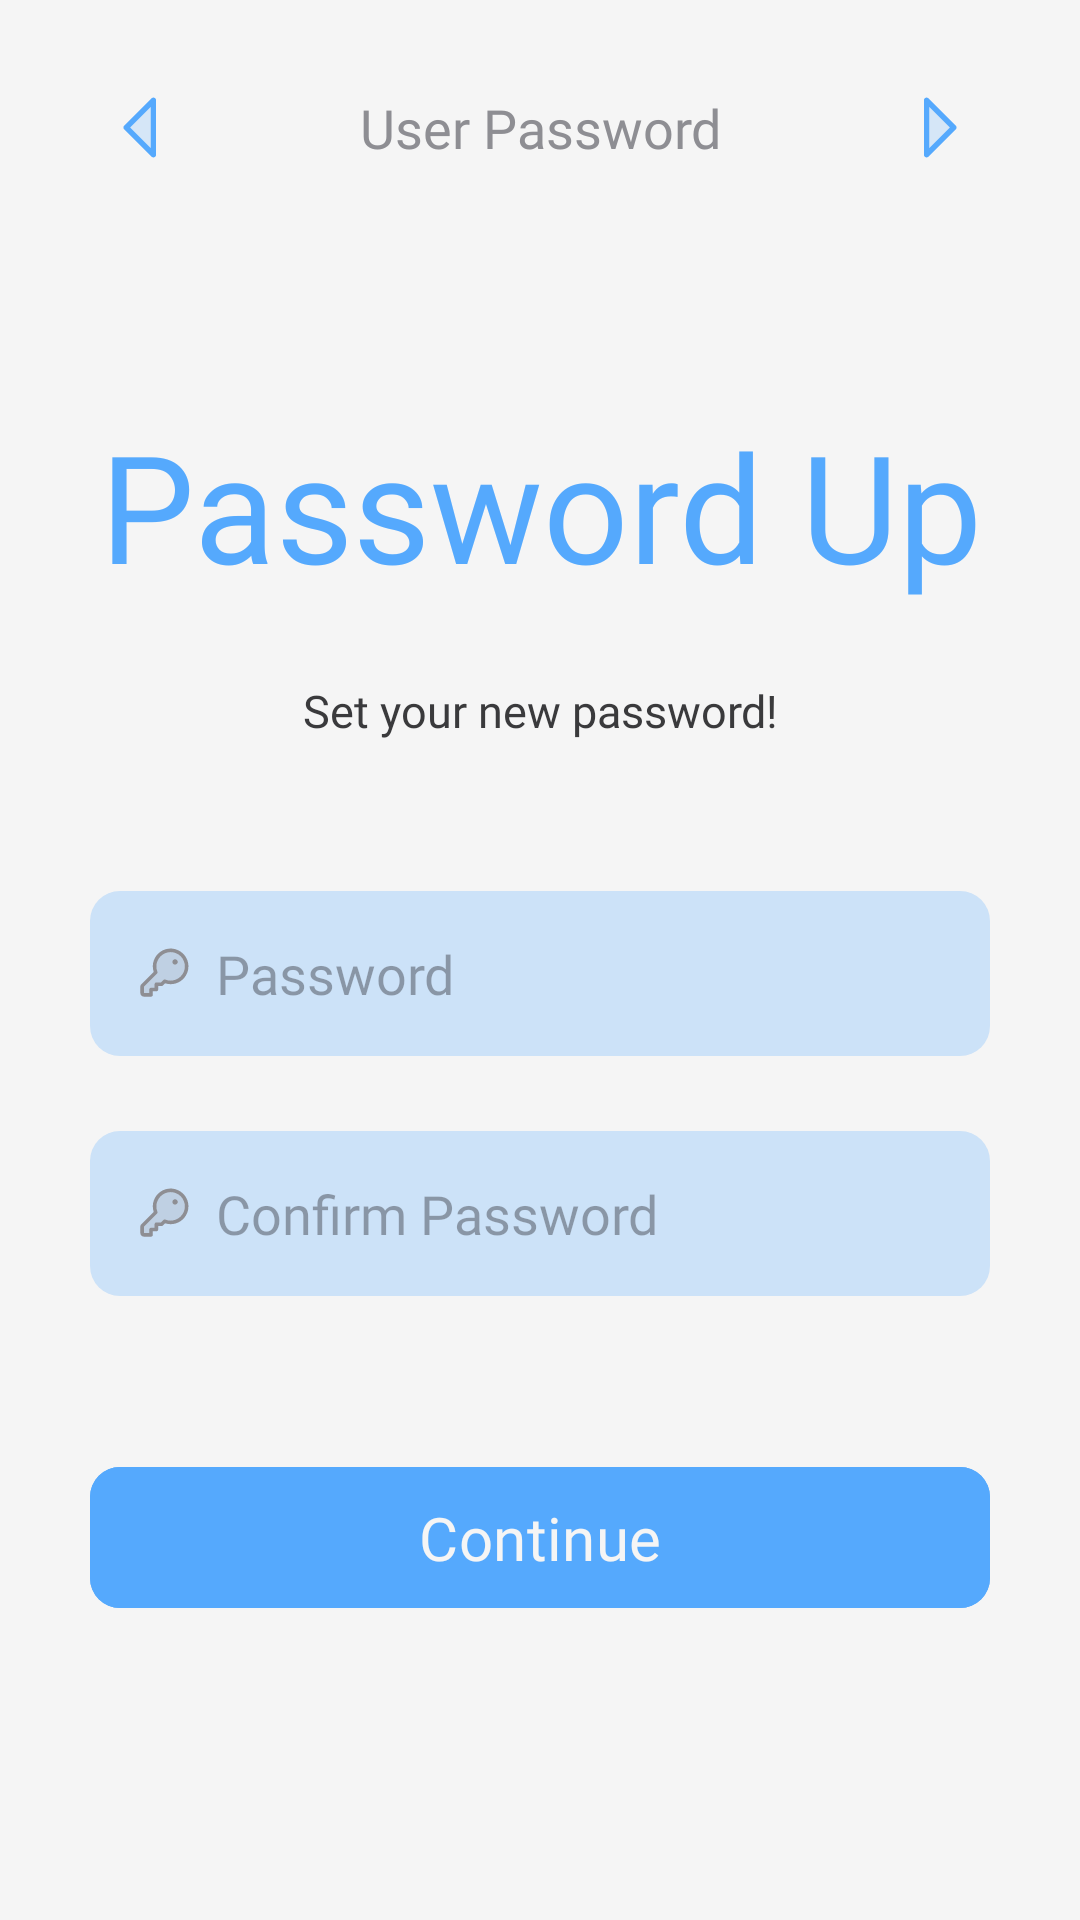

Named icons in this screenshot (1080x1920) and their centers, point (x, y):
arrow left: point (139, 127)
arrow right: point (940, 127)
